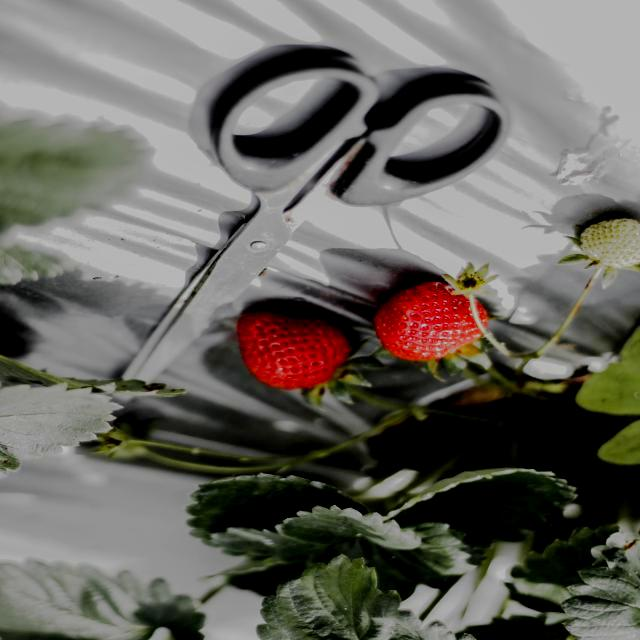ripe: (228, 300, 362, 394), (373, 280, 495, 364)
unripe: (571, 211, 640, 273)
